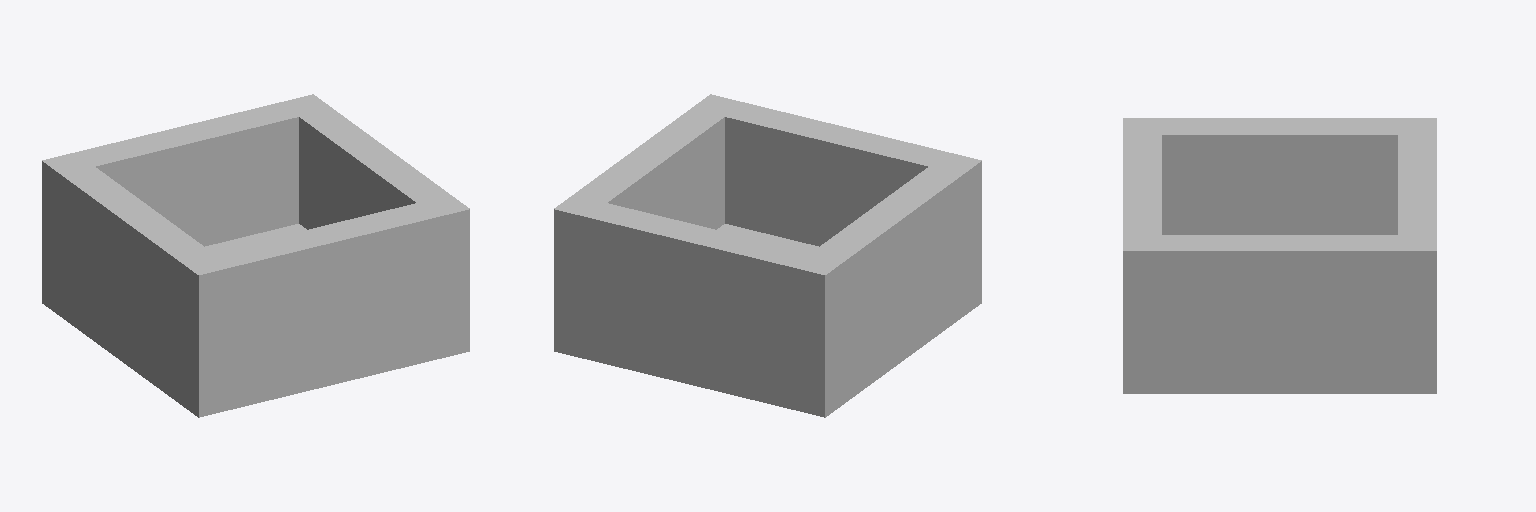
File: foundry_mold.obj
3 views of the same model, side by side, from view 1: azimuth 30°, elevation 25°; view 2: azimuth 150°, elevation 25°; view 3: azimuth 270°, elevation 25° (orthographic).
Parts seen in each view (by area): view 1: left, right, back, bot, front; view 2: right, left, back, bot, front; view 3: front, back, bot, left, right.
Boxes of the visible parts, <box> form: left: <box>179,195,469,381</box>; right: <box>42,94,332,280</box>; back: <box>61,167,211,367</box>; bot: <box>42,224,469,417</box>; front: <box>299,109,449,229</box>; right: <box>554,195,844,381</box>; left: <box>691,94,981,280</box>; back: <box>812,167,962,367</box>; bot: <box>554,224,981,417</box>; front: <box>574,109,724,229</box>; front: <box>1162,235,1397,357</box>; back: <box>1162,118,1397,234</box>; bot: <box>1123,358,1436,393</box>; left: <box>1123,118,1161,357</box>; right: <box>1398,118,1436,357</box>.
Size of the model in its own units: 1 by 0.5 by 1.